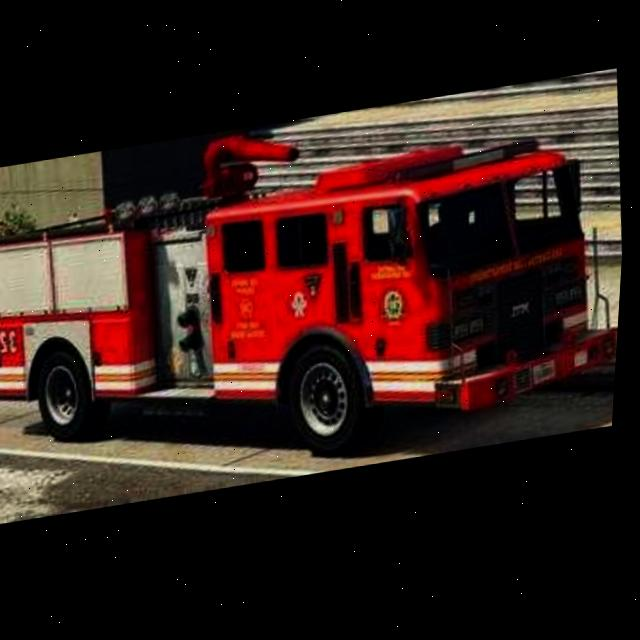emergency: (0, 82, 634, 509)
